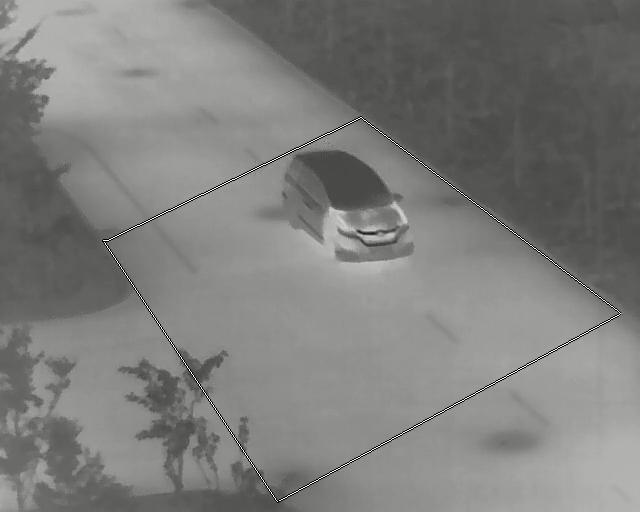vehicle: (281, 150, 416, 262)
